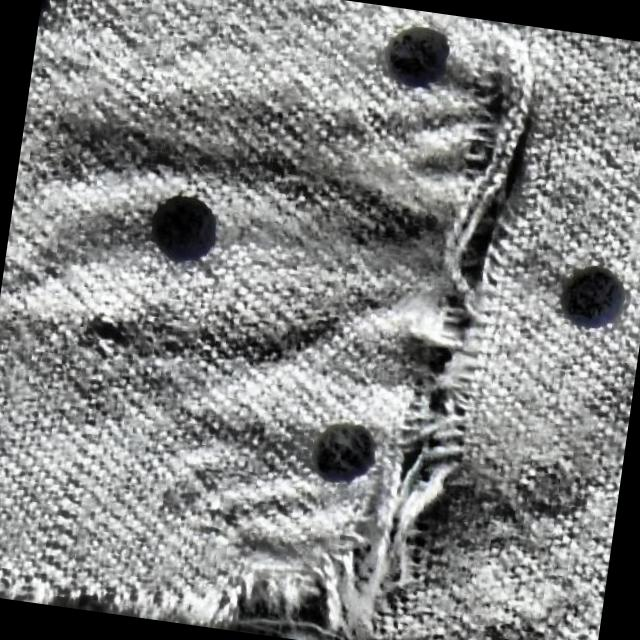baekra: (376, 36, 562, 507), (55, 451, 498, 640)
